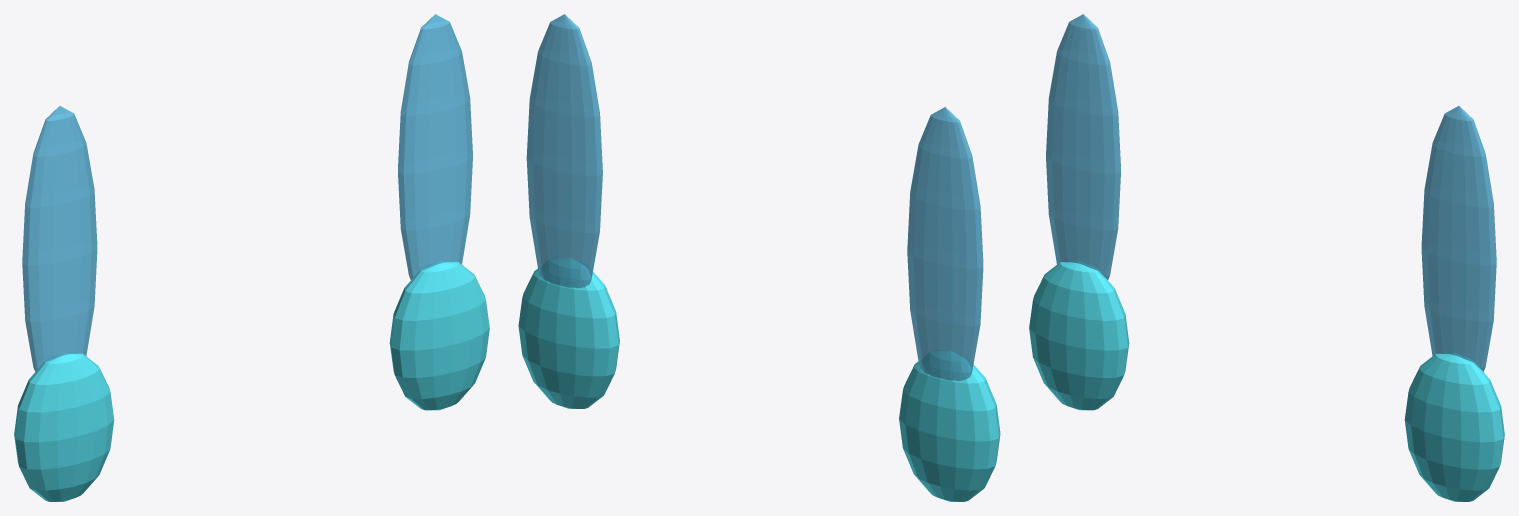
File: cry-baby.glb
3 renders of one model, left to right at view 1: azimuth 30°, elevation 25°; view 2: azimuth 150°, elevation 25°; view 3: azimuth 330°, elevation 25°, orthographic.
Parts seen in each view (by area): view 1: tear stream (×2), tear drop (×2); view 2: tear stream (×2), tear drop (×2); view 3: tear stream (×2), tear drop (×2).
Part boxes in pixels (x1=…): tear stream (×2): x1=22, y1=14, x2=472, y2=371; tear drop (×2): x1=14, y1=261, x2=489, y2=501; tear stream (×2): x1=526, y1=14, x2=983, y2=381; tear drop (×2): x1=518, y1=258, x2=1000, y2=501; tear stream (×2): x1=1046, y1=14, x2=1496, y2=371; tear drop (×2): x1=1029, y1=261, x2=1504, y2=501.
Bounding box in the file's own units: 1.26 × 1 × 0.12.
